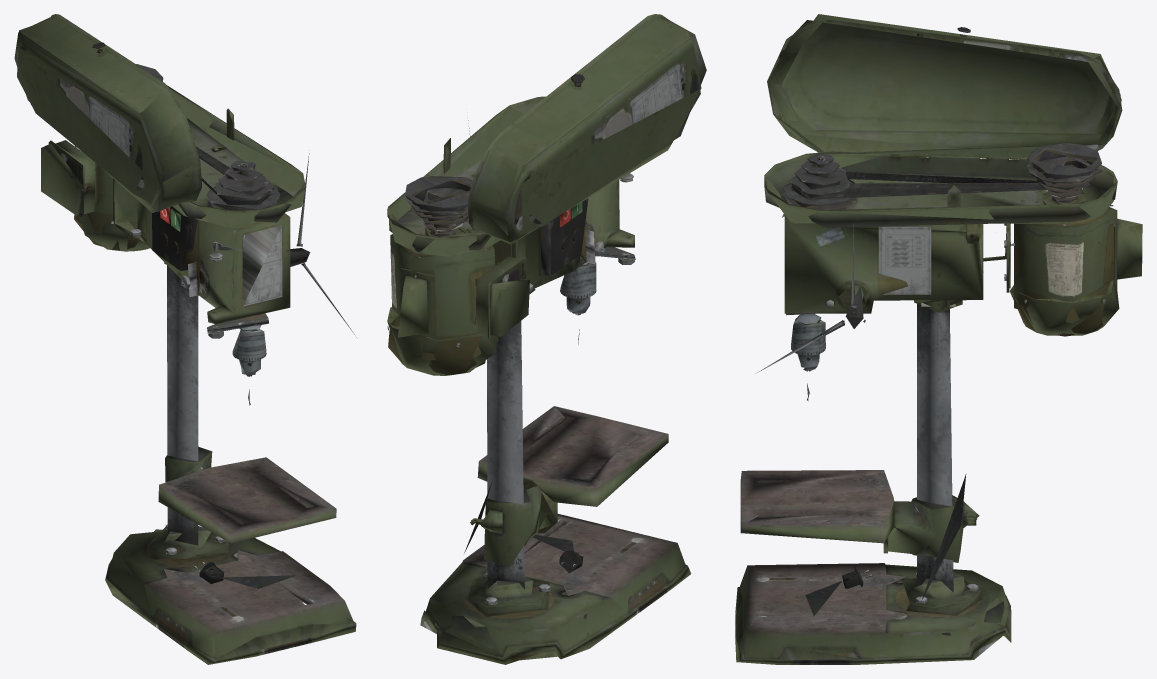
The model's file is drillpress.glb.
3 renders of one model, left to right at view 1: azimuth 30°, elevation 25°; view 2: azimuth 150°, elevation 25°; view 3: azimuth 270°, elevation 25°, orthographic. The views are drawn at different scales.
Visible parts, largest first — view 1: drill_press_01; view 2: drill_press_01; view 3: drill_press_01.
Boxes of the visible parts, x1,y1,x2,y2 form: drill_press_01: (14,14,356,664); drill_press_01: (387,14,706,664); drill_press_01: (735,14,1142,664).
Bounding box in the file's own units: 0.3286 × 0.9003 × 0.584.
Materials: 1 (1 with a texture image).
